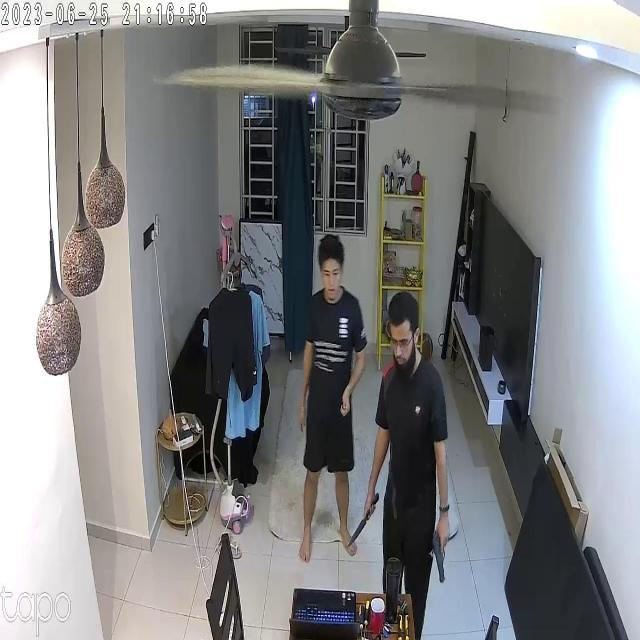Gun: (417, 522, 463, 593)
Knife: (339, 495, 387, 547)
